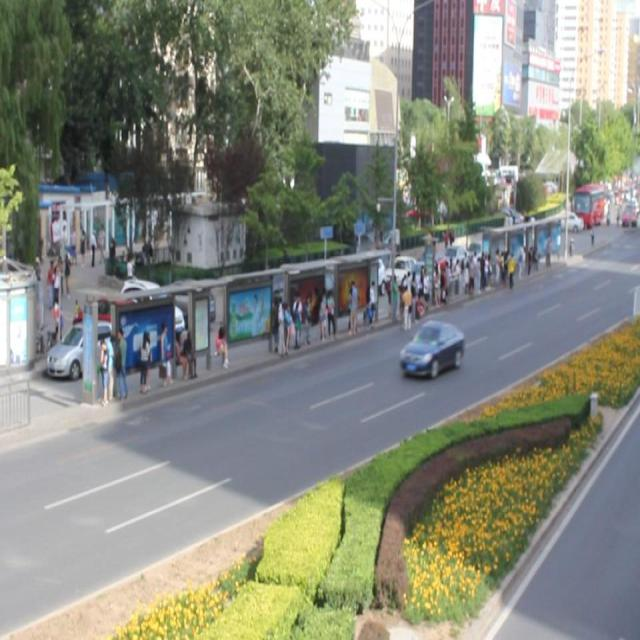car: (398, 319, 462, 376)
